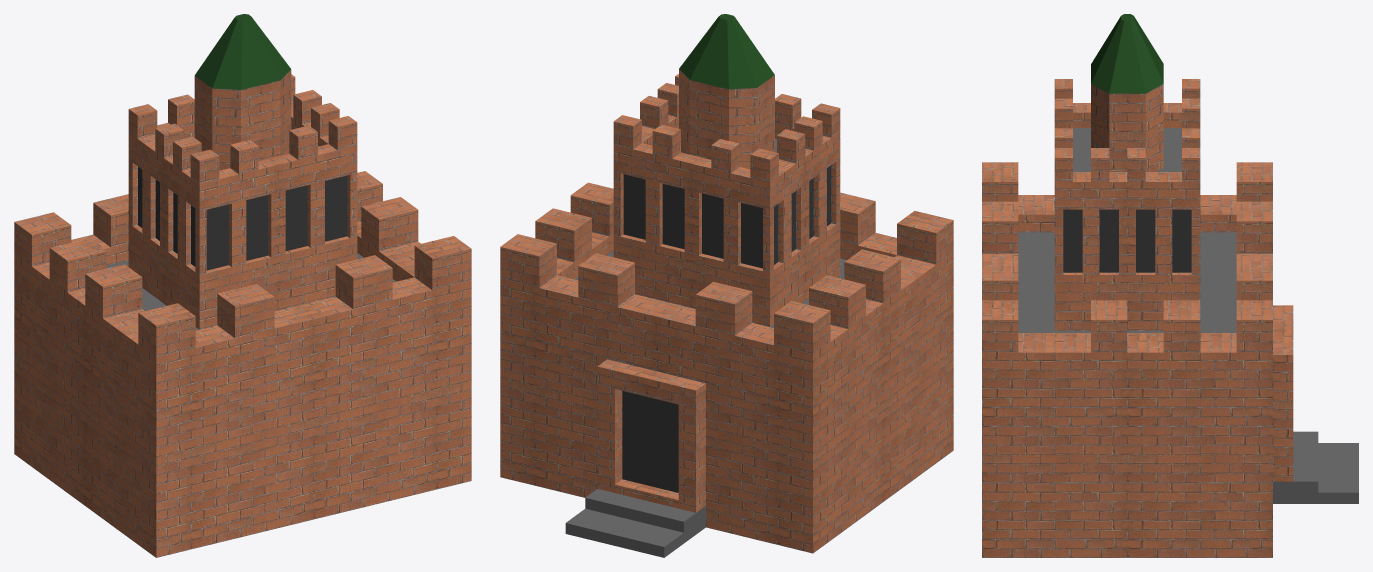
Rendered from zamok.glb.
3 renders of one model, left to right at view 1: azimuth 30°, elevation 25°; view 2: azimuth 150°, elevation 25°; view 3: azimuth 270°, elevation 25°, orthographic. The views are drawn at different scales.
Visible parts, largest first — view 1: model; view 2: model; view 3: model.
Part boxes in pixels (x1,y1,x2,y2): model: (14,14,471,557); model: (500,14,953,557); model: (982,14,1358,557).
Size of the model in its own units: 2.57 by 3.5 by 2.59.
Materials: 4 (1 with a texture image).
